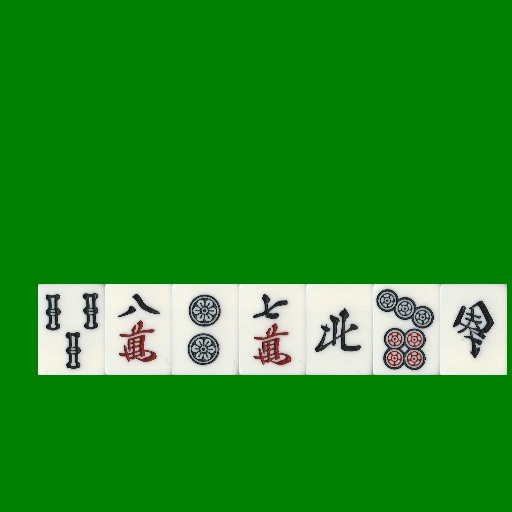2p: (172, 284, 239, 375)
3s: (38, 284, 105, 375)
7m: (239, 284, 306, 375)
7p: (373, 284, 440, 375)
8m: (105, 284, 172, 375)
north: (306, 284, 373, 375)
south: (440, 284, 507, 375)
